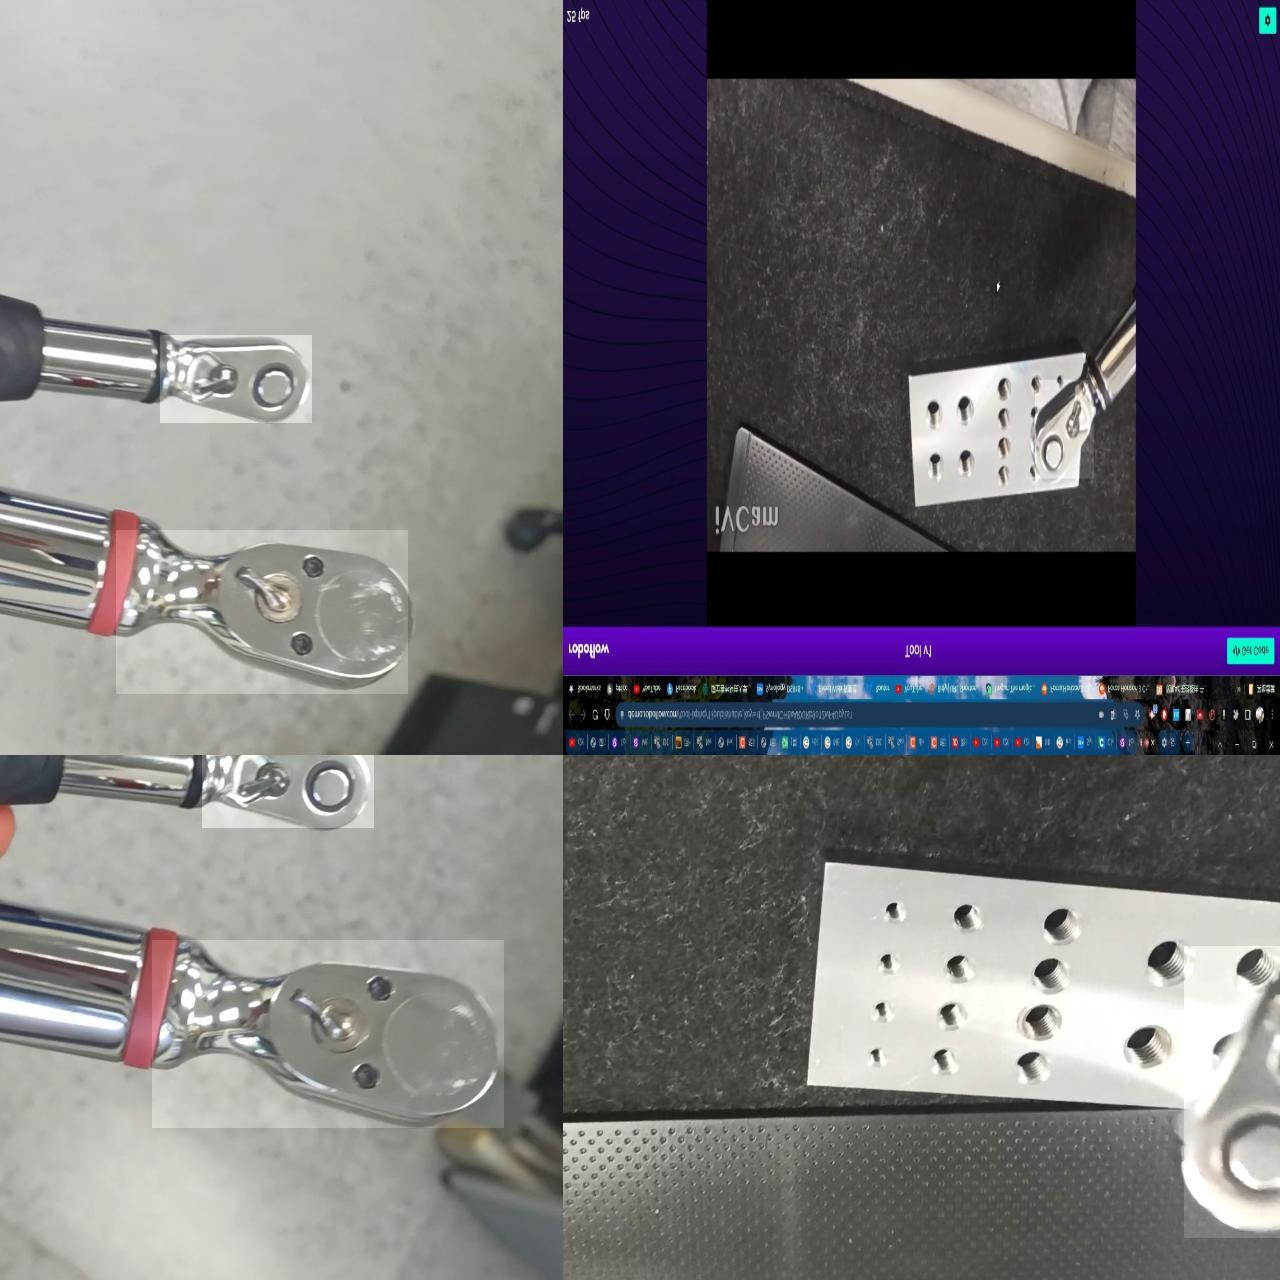Tool: (152, 940, 504, 1128), (116, 530, 408, 694), (1184, 946, 1280, 1238), (159, 335, 312, 423), (202, 755, 374, 828), (1035, 380, 1095, 478)
